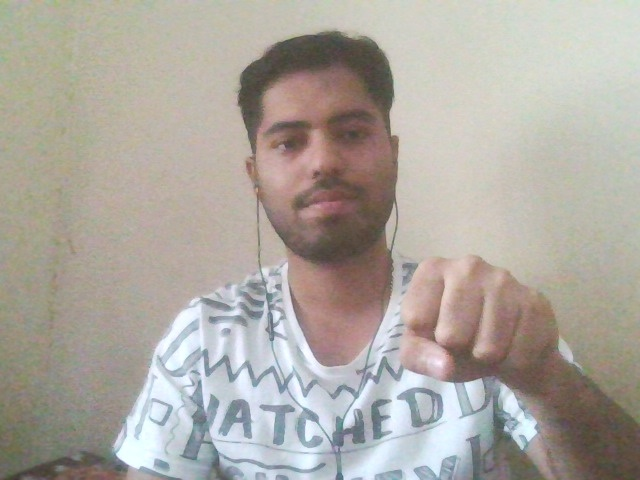Yes: (385, 239, 581, 394)
